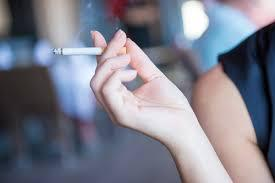smoke: (53, 47, 127, 55)
